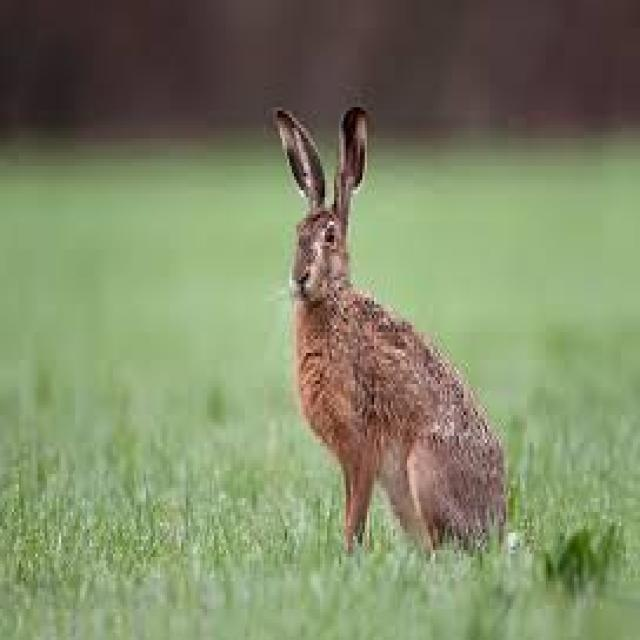Hare: (270, 97, 510, 546)
